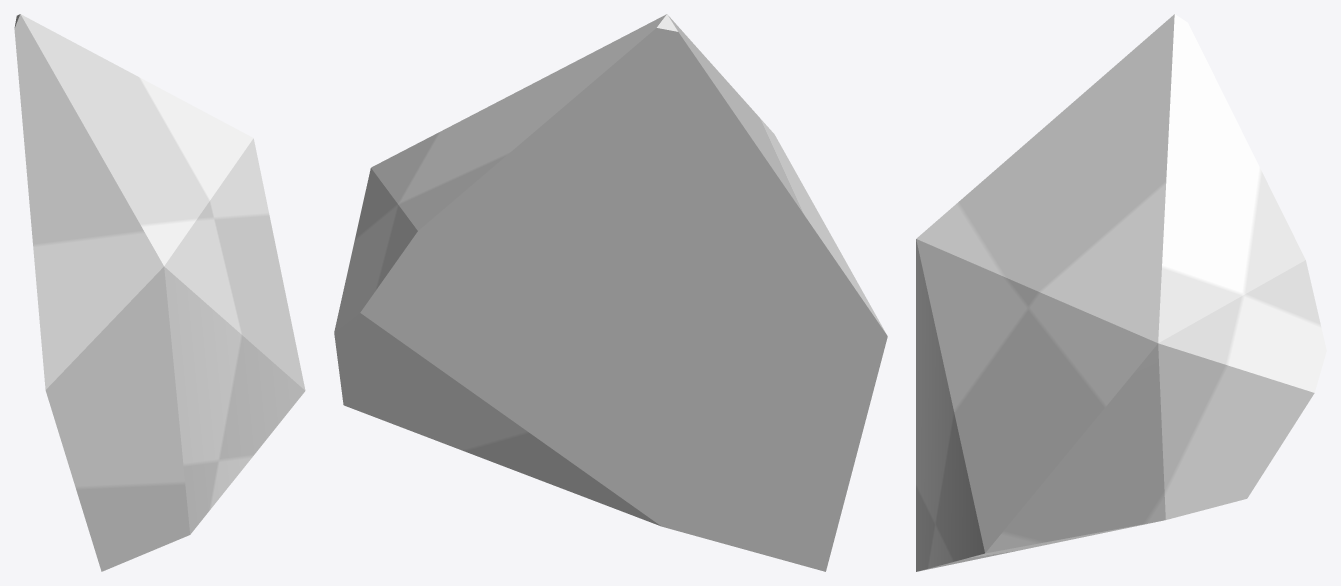
Rendered from Project05.glb.
3 renders of one model, left to right at view 1: azimuth 30°, elevation 25°; view 2: azimuth 150°, elevation 25°; view 3: azimuth 270°, elevation 25°, orthographic. The views are drawn at different scales.
Visible parts, largest first — view 1: 05Leadership; view 2: 05Leadership; view 3: 05Leadership.
Boxes of the visible parts, left/top/right/bottom form: 05Leadership: left=14, top=14, right=305, bottom=571; 05Leadership: left=334, top=14, right=887, bottom=571; 05Leadership: left=916, top=14, right=1326, bottom=571.
Size of the model in its own units: 1.17 by 1.79 by 1.19.
Materials: 2 (1 with a texture image).
